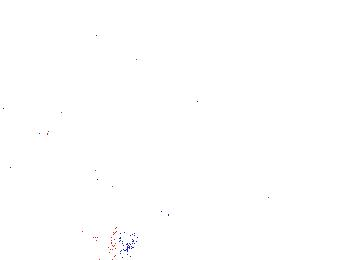flame jellyfish: (94, 198, 177, 255), (20, 74, 68, 141), (87, 165, 134, 219)
